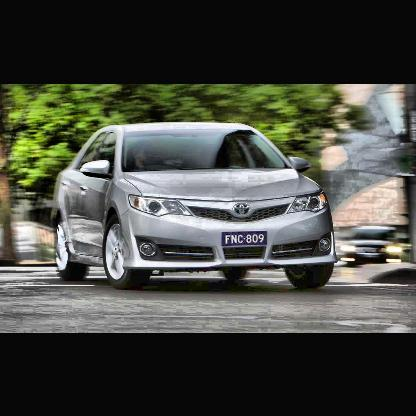Toyota Camry Sedan 2012: (50, 120, 342, 292)
